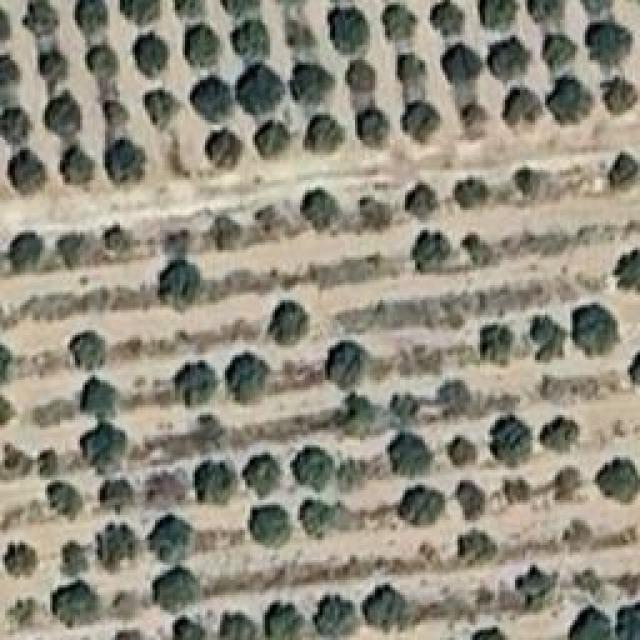Tree: (573, 300, 628, 356), (318, 3, 370, 57), (540, 400, 587, 456), (153, 260, 203, 310), (148, 518, 201, 565), (148, 563, 199, 611), (380, 430, 432, 477), (48, 580, 101, 626), (243, 447, 284, 506), (460, 230, 511, 276), (190, 74, 235, 126), (308, 188, 351, 242), (15, 0, 66, 43), (75, 424, 127, 466), (365, 588, 408, 638), (295, 488, 336, 540), (275, 297, 322, 342), (190, 458, 239, 501), (8, 227, 52, 274), (58, 230, 105, 274), (205, 207, 252, 251), (258, 113, 298, 164), (250, 505, 297, 548), (518, 567, 561, 614), (353, 388, 393, 438), (300, 110, 344, 155), (290, 62, 335, 106), (230, 352, 273, 398), (320, 345, 366, 388), (240, 63, 282, 110), (414, 228, 456, 275), (265, 603, 317, 640), (312, 600, 360, 640), (47, 478, 91, 521), (400, 482, 442, 527), (592, 23, 639, 63), (293, 443, 333, 490), (597, 449, 640, 492), (176, 365, 220, 407), (607, 147, 640, 202), (485, 32, 525, 77), (498, 410, 533, 461), (143, 83, 179, 132), (356, 108, 398, 150), (458, 530, 500, 572), (103, 140, 142, 185), (92, 518, 139, 555), (205, 127, 244, 171), (35, 50, 77, 90), (68, 335, 111, 374), (428, 0, 471, 38), (8, 147, 44, 192), (128, 32, 163, 77), (233, 20, 272, 60), (155, 222, 194, 262), (553, 80, 590, 122), (83, 375, 126, 411), (502, 85, 536, 130), (443, 43, 482, 82), (73, 0, 113, 38), (403, 100, 443, 138), (605, 75, 640, 118), (535, 308, 565, 357), (3, 540, 41, 578), (553, 463, 591, 501), (0, 440, 30, 488), (348, 53, 382, 95), (215, 610, 262, 640), (182, 22, 214, 66), (43, 100, 80, 138), (573, 605, 613, 640), (397, 43, 429, 86), (83, 45, 118, 84), (33, 439, 64, 483), (458, 173, 492, 213), (385, 2, 425, 35), (450, 483, 483, 522), (542, 35, 574, 74), (475, 325, 509, 361), (457, 98, 489, 136), (355, 198, 390, 232), (122, 0, 169, 25), (518, 162, 552, 196), (95, 95, 132, 126), (60, 540, 93, 574), (617, 250, 640, 298), (408, 182, 442, 214), (0, 102, 28, 140), (477, 0, 515, 28), (10, 598, 40, 632), (165, 0, 205, 25), (57, 148, 90, 178), (280, 17, 309, 50), (615, 602, 640, 640), (525, 0, 568, 21), (448, 435, 476, 466), (103, 478, 134, 506), (0, 58, 28, 88), (175, 615, 208, 640), (110, 585, 137, 614), (215, 0, 258, 18), (103, 225, 126, 257), (441, 383, 468, 409), (115, 620, 150, 640), (397, 392, 429, 413), (0, 0, 12, 37), (575, 0, 610, 12)
